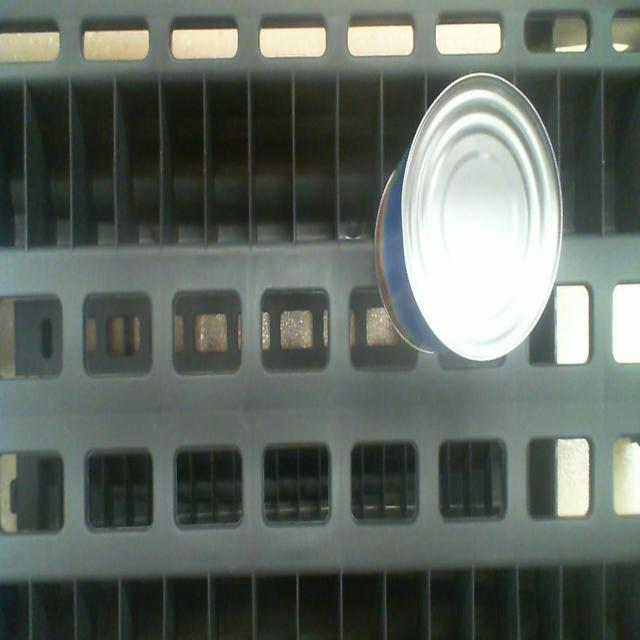can: (405, 71, 565, 363)
